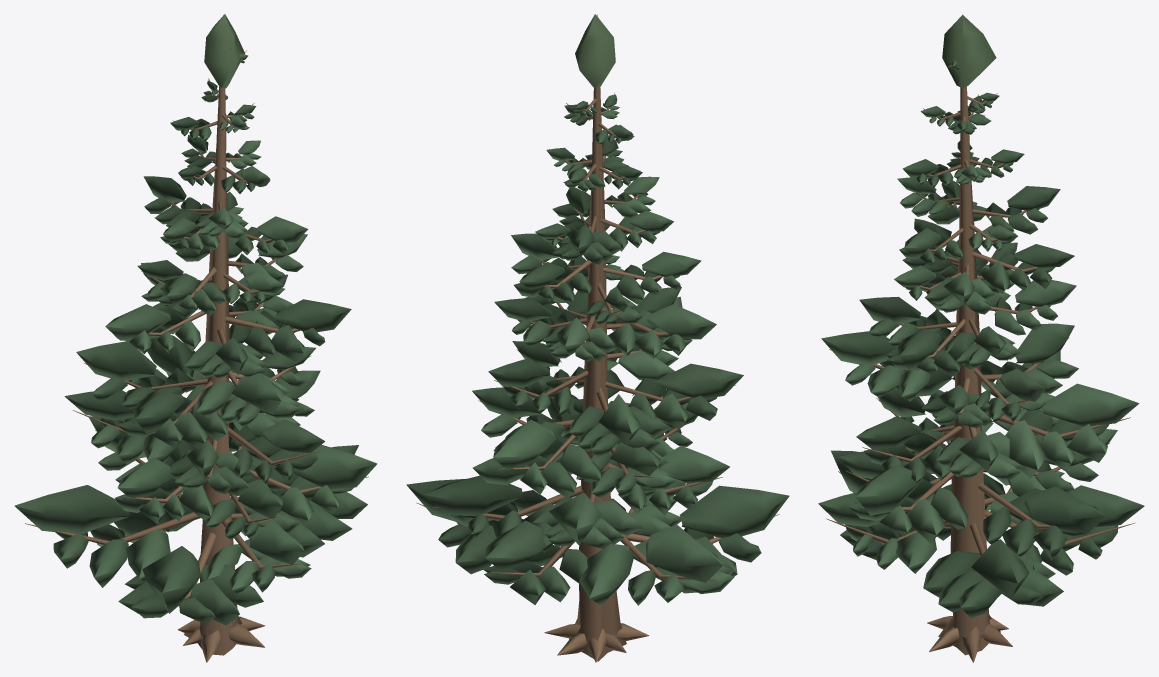
Rendered from pino-alto.glb.
The picture shows the model from 3 angles, left to right: view 1: azimuth 30°, elevation 25°; view 2: azimuth 150°, elevation 25°; view 3: azimuth 270°, elevation 25°; orthographic projection.
Visible parts, largest first — view 1: pino-alto; view 2: pino-alto; view 3: pino-alto.
Part boxes in pixels (x1,y1,x2,y2): pino-alto: (14, 14, 377, 662); pino-alto: (406, 14, 789, 662); pino-alto: (818, 14, 1144, 662).
Size of the model in its own units: 0.5502 by 1 by 0.4713.
